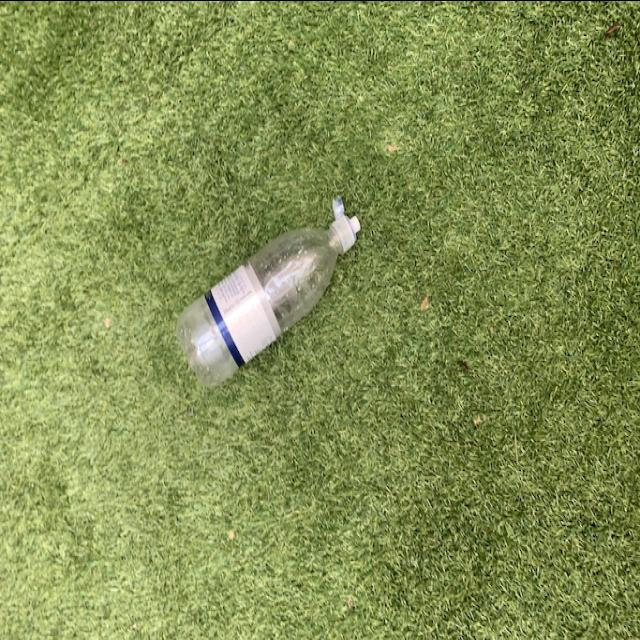PET: (170, 188, 372, 392)
